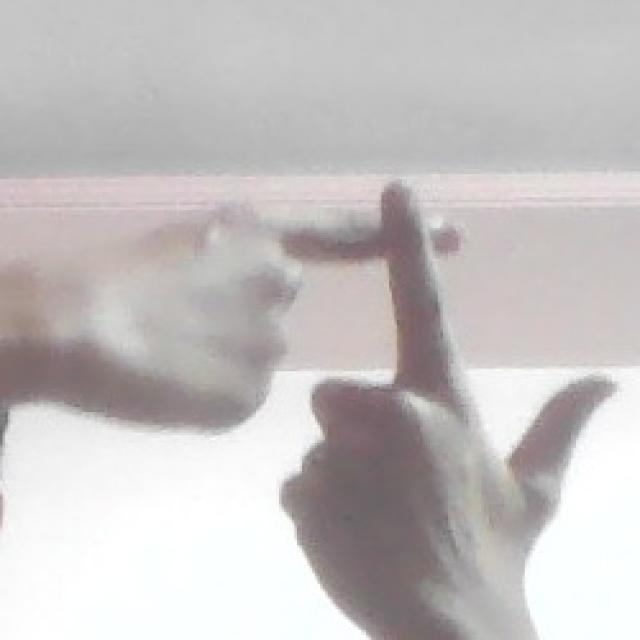Alphabet-J: (46, 171, 622, 581)
